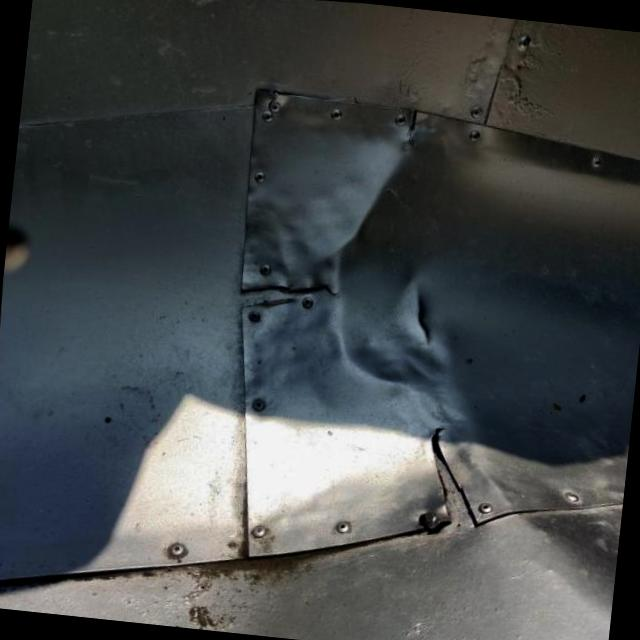dent: (282, 103, 526, 442)
